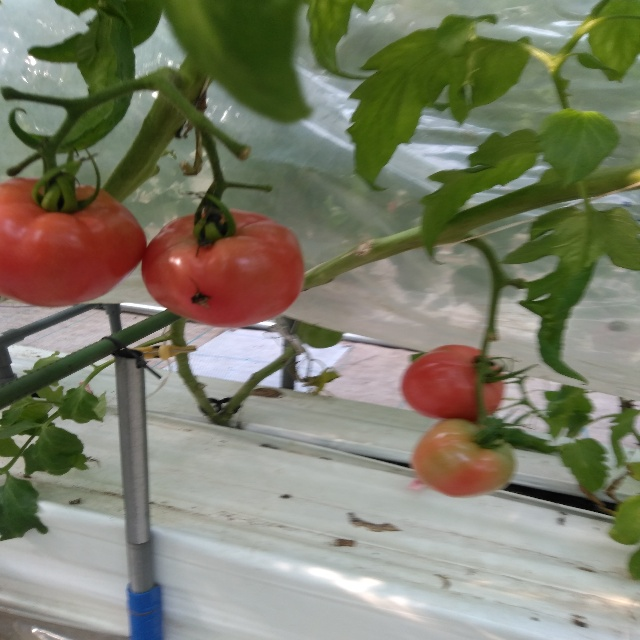b_fully_ripened: (141, 207, 304, 328), (0, 176, 146, 307), (400, 344, 503, 421)
b_half_ripened: (412, 418, 515, 499)
